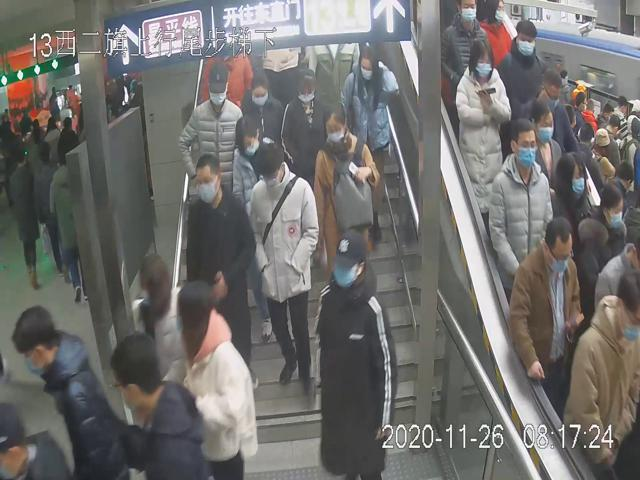person: (317, 230, 396, 480), (251, 142, 320, 410), (185, 152, 261, 389), (506, 216, 585, 402), (310, 103, 381, 281), (340, 42, 400, 247), (486, 116, 554, 290), (454, 36, 512, 218), (177, 60, 243, 198), (281, 72, 334, 179), (229, 112, 284, 206), (237, 71, 287, 166)
